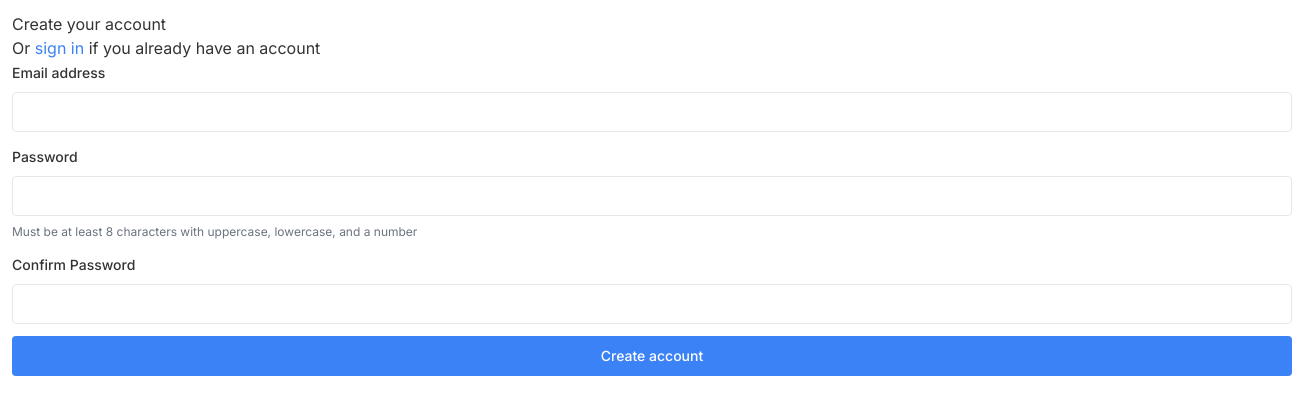
Test: Sign-Up Verification Flow › should display registered email in verification message
This screenshot has width=1304, height=393.
Type "user@test.com" into the field labelled "Email address" at point(652, 112), box [12,92,1292,132]
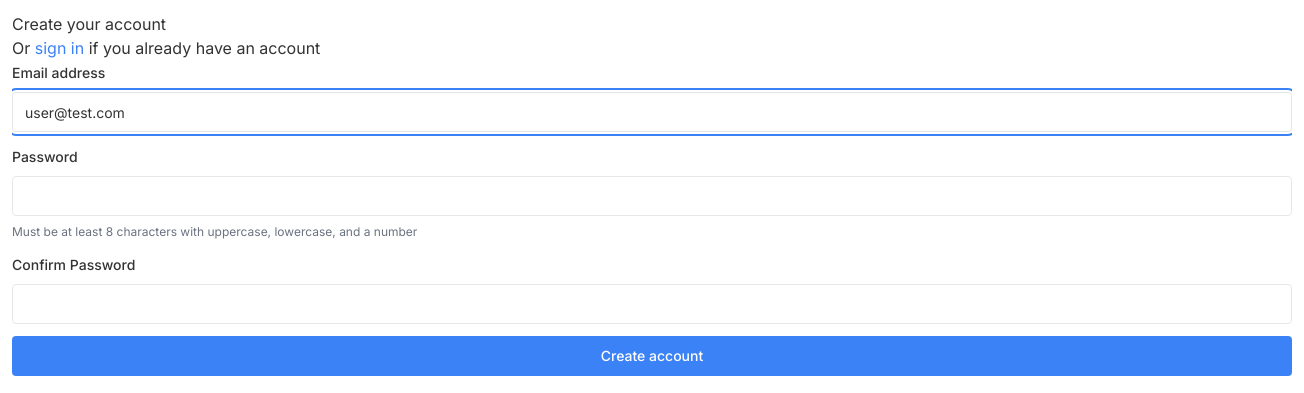
Type "Password123" into the password field labelled "Password" at point(652, 196), box [12,176,1292,216]
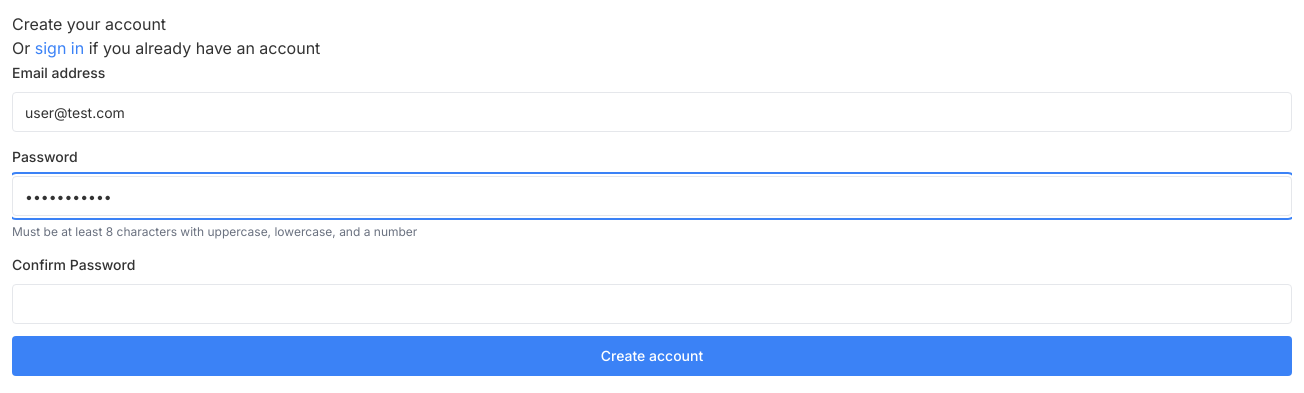
Type "Password123" into the password field labelled "Confirm Password" at point(652, 304), box [12,284,1292,324]
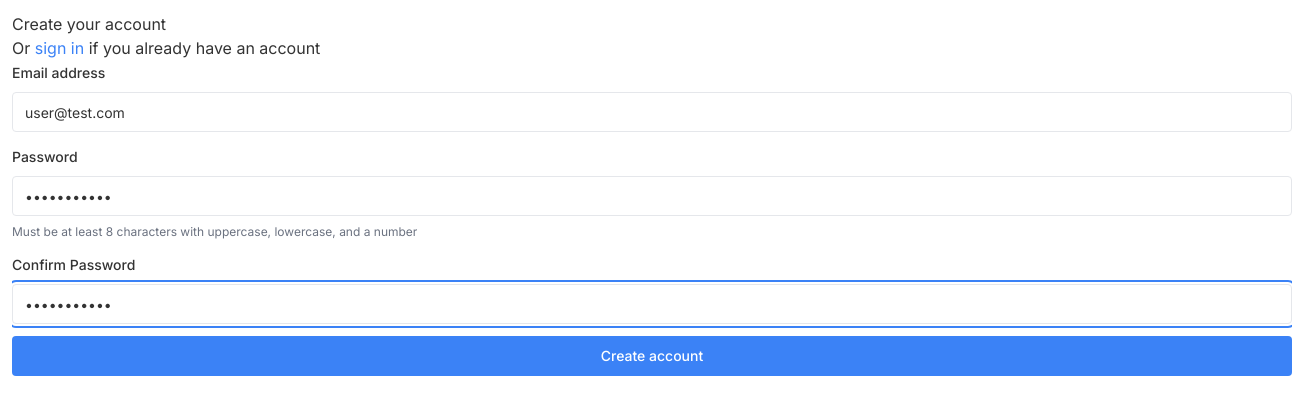
Click the button "Create account" at point(652, 356), box [12,336,1292,376]
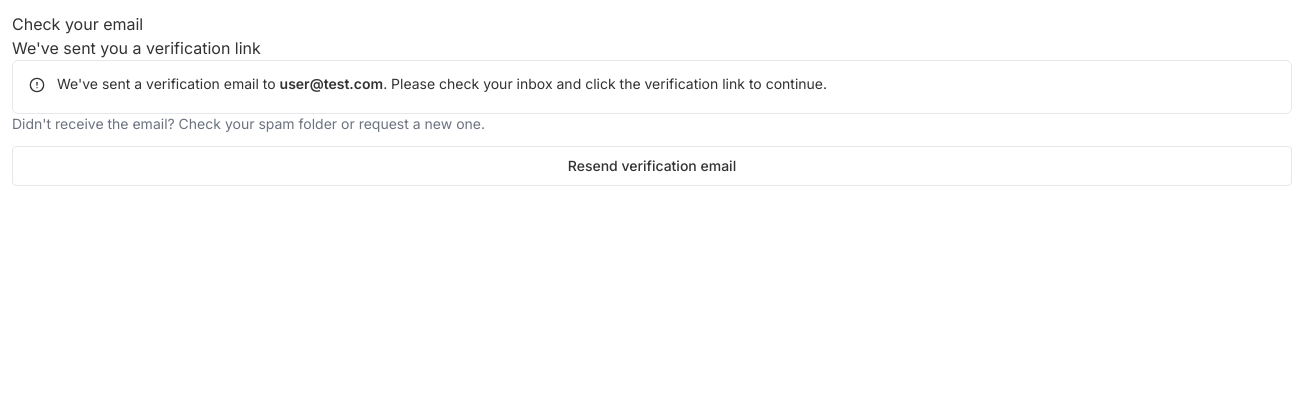
Expected: the text "user@test.com" is shown, [280,75,383,92]
